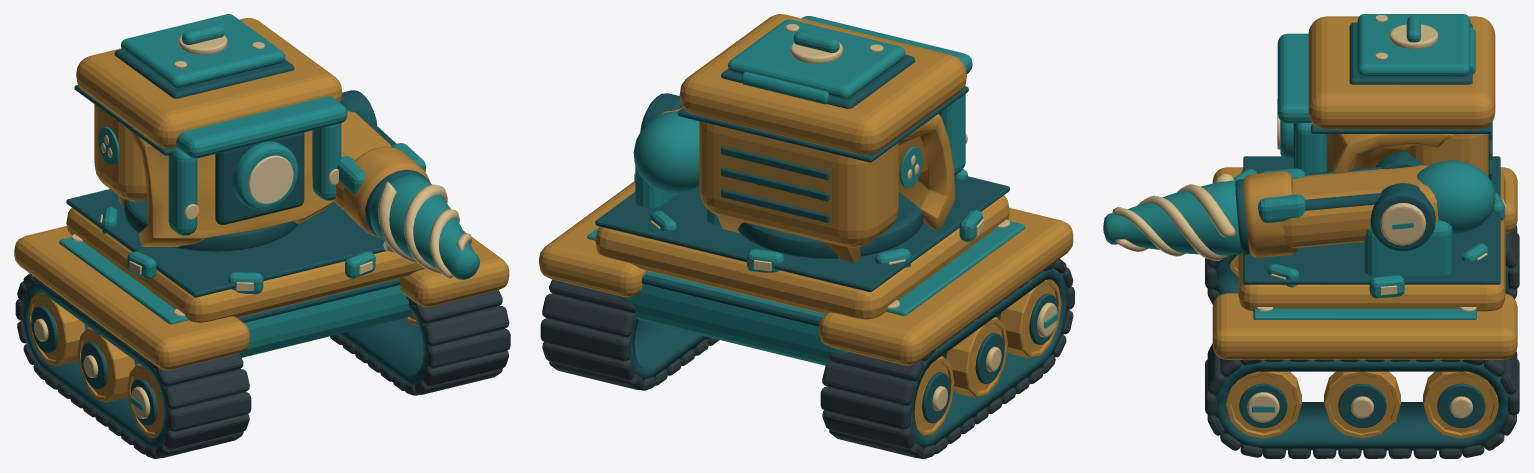
File: TOY_QUOTA.hi.glb
3 views of the same model, side by side, from view 1: azimuth 30°, elevation 25°; view 2: azimuth 150°, elevation 25°; view 3: azimuth 270°, elevation 25° (orthographic). The views are drawn at different scales.
Parts seen in each view (by area): view 1: mesh_Chassis, mesh_TurretYaw, mesh_BodySpring, mesh_DrillSpin, mesh_BatteryCover, mesh_Slide, mesh_ArmPitch, mesh_DriveL; view 2: mesh_Chassis, mesh_TurretYaw, mesh_BodySpring, mesh_BatteryCover, mesh_ArmPitch, mesh_DriveL; view 3: mesh_Chassis, mesh_TurretYaw, mesh_BodySpring, mesh_ArmPitch, mesh_DrillSpin, mesh_BatteryCover, mesh_Slide, mesh_DriveR.
Part boxes in pixels (bbox=[...]): mesh_Chassis: bbox=[14, 226, 510, 458]; mesh_TurretYaw: bbox=[74, 18, 376, 251]; mesh_BodySpring: bbox=[66, 189, 424, 322]; mesh_DrillSpin: bbox=[370, 174, 479, 279]; mesh_BatteryCover: bbox=[121, 14, 285, 88]; mesh_Slide: bbox=[337, 143, 430, 237]; mesh_ArmPitch: bbox=[333, 108, 396, 209]; mesh_DriveL: bbox=[131, 386, 150, 418]; mesh_Chassis: bbox=[539, 181, 1074, 458]; mesh_TurretYaw: bbox=[635, 14, 972, 262]; mesh_BodySpring: bbox=[595, 169, 1009, 319]; mesh_BatteryCover: bbox=[728, 19, 905, 104]; mesh_ArmPitch: bbox=[633, 107, 699, 192]; mesh_DriveL: bbox=[1037, 302, 1057, 337]; mesh_Chassis: bbox=[1205, 167, 1519, 458]; mesh_TurretYaw: bbox=[1277, 16, 1495, 275]; mesh_BodySpring: bbox=[1233, 156, 1506, 311]; mesh_ArmPitch: bbox=[1282, 160, 1495, 248]; mesh_DrillSpin: bbox=[1103, 173, 1241, 260]; mesh_BatteryCover: bbox=[1357, 14, 1475, 76]; mesh_Slide: bbox=[1235, 168, 1305, 257]; mesh_DriveR: bbox=[1247, 392, 1279, 422].
Bounding box in the file's own units: 3 × 2.75 × 3.07.
